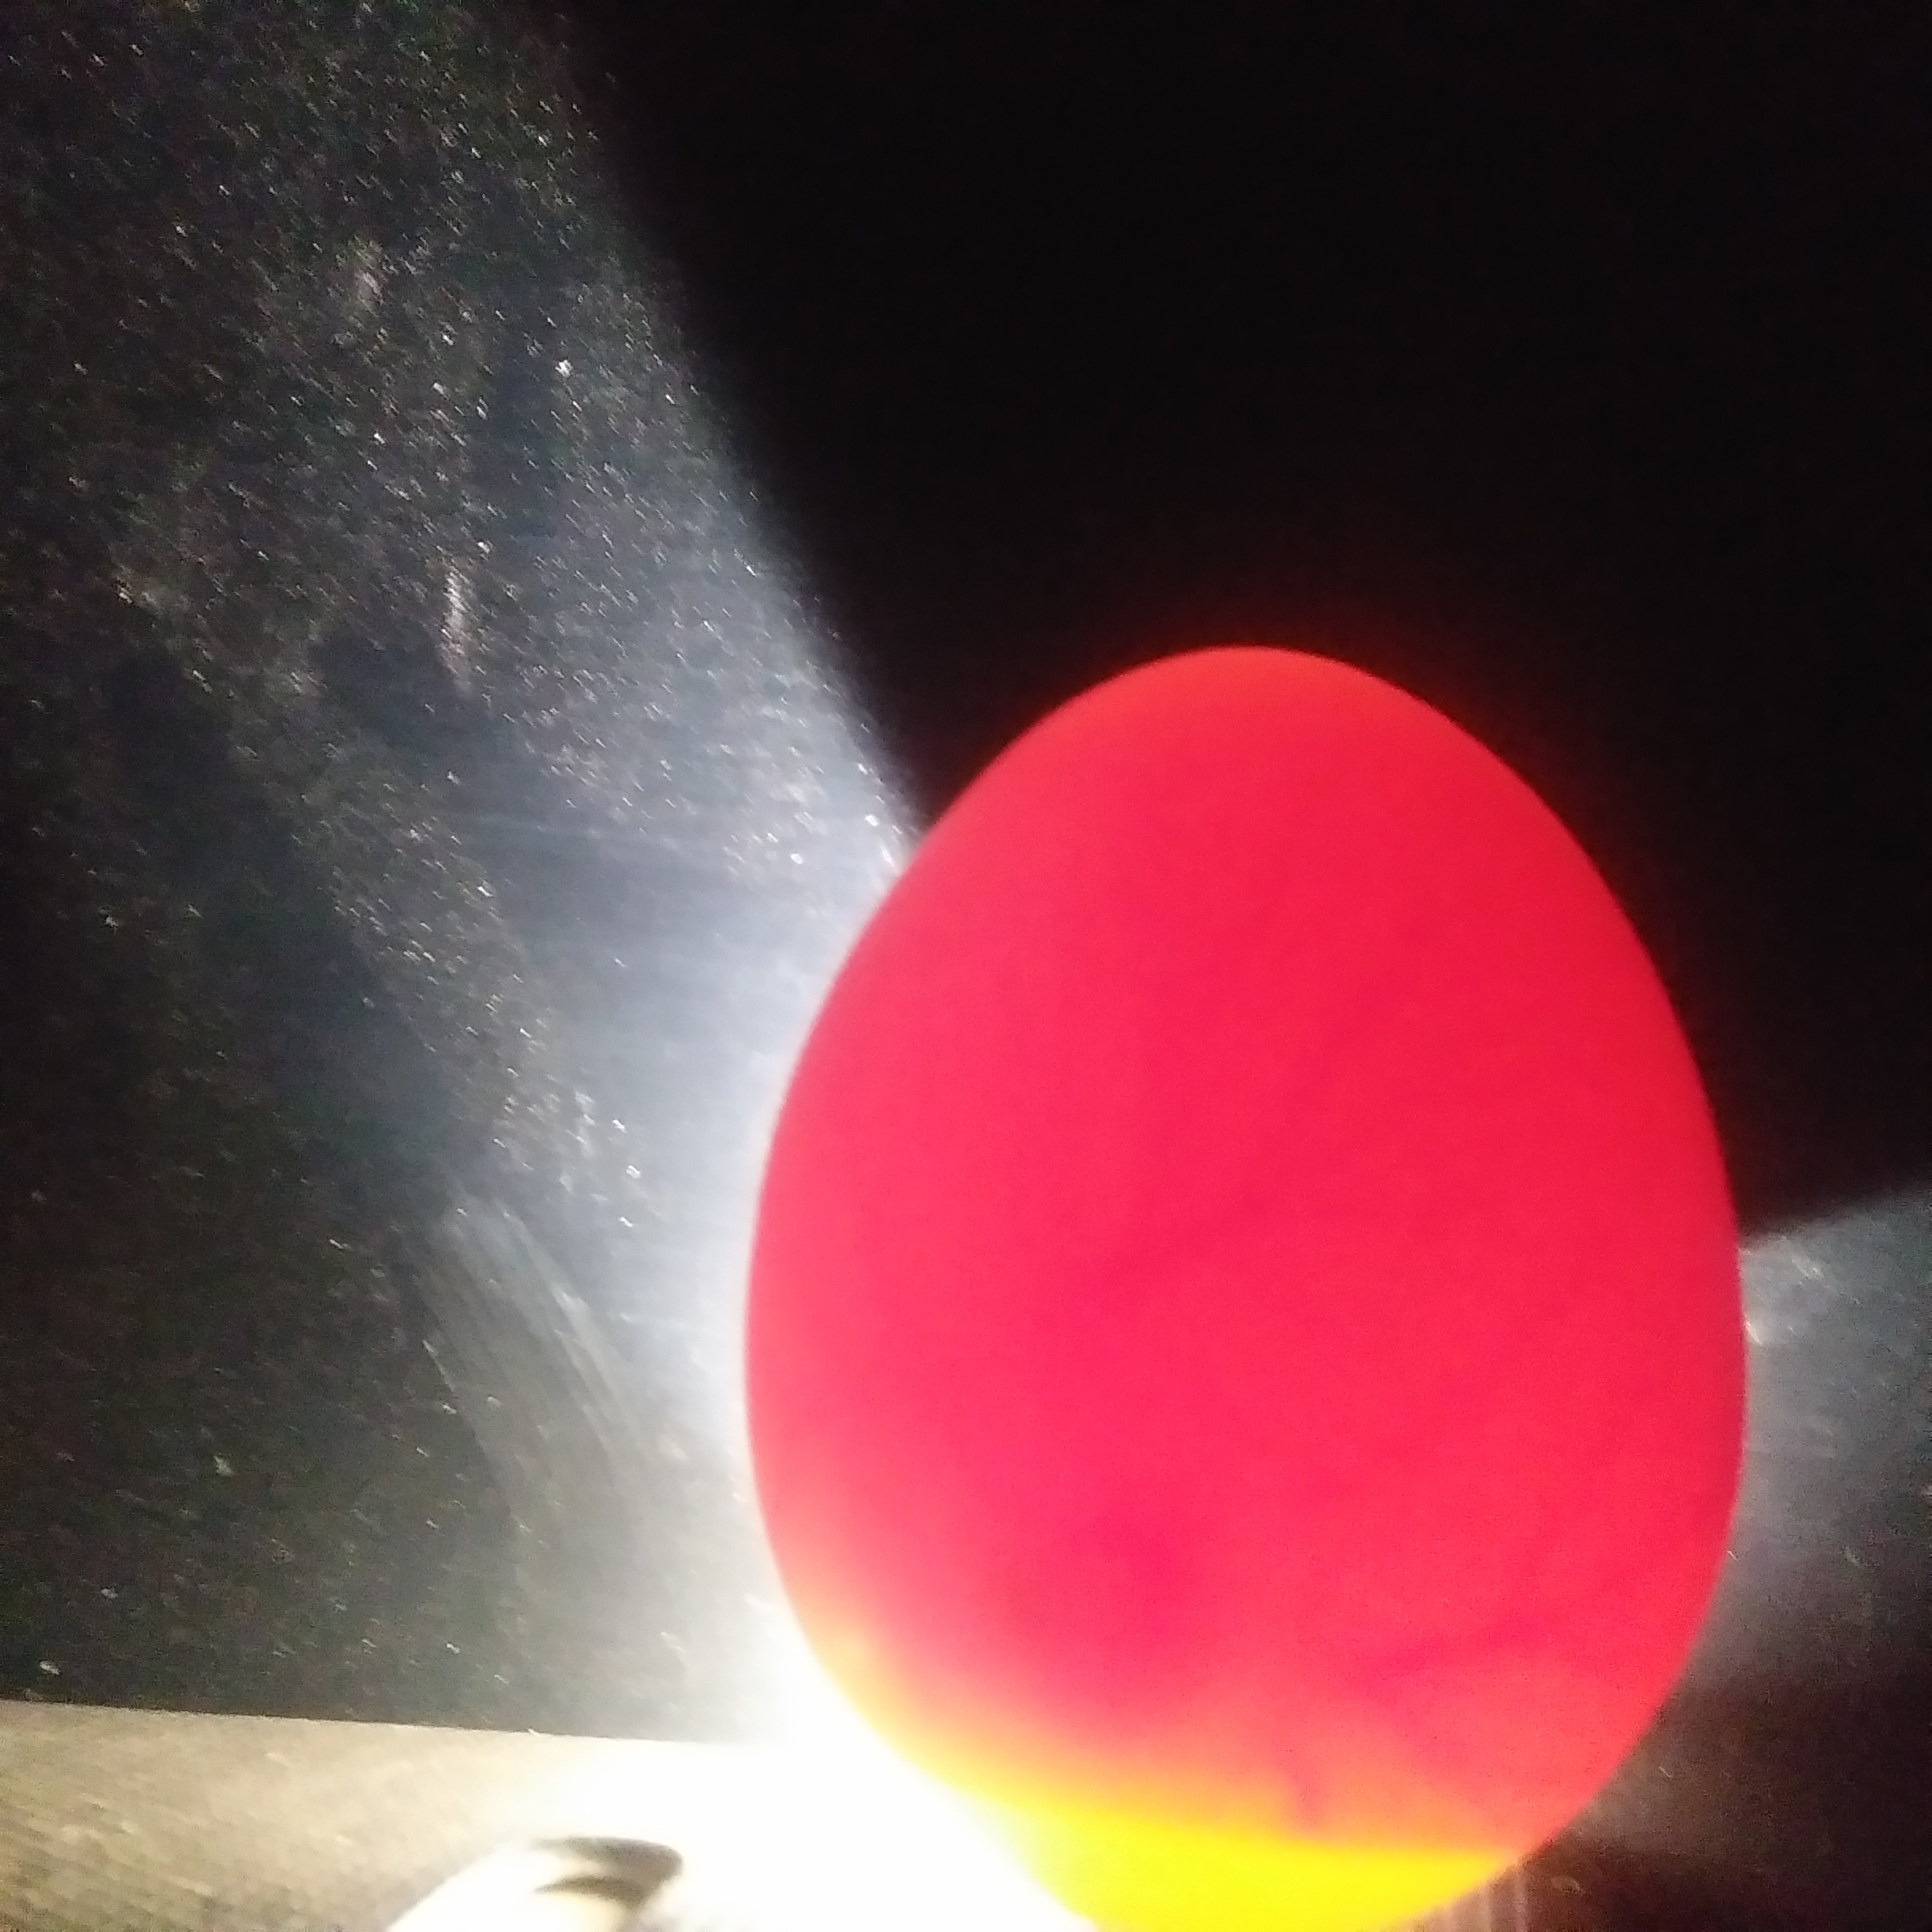bloodcell: (1288, 1141, 1610, 1810), (1031, 879, 1277, 1458)
embryo: (1014, 1491, 1254, 1739)
